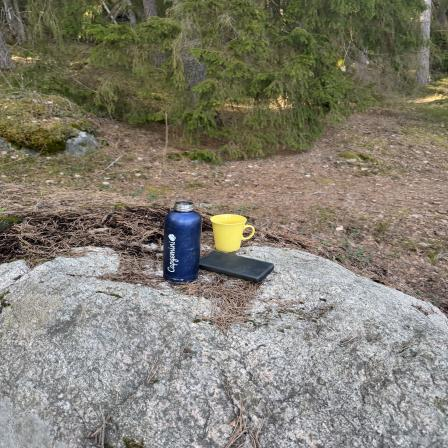blue_bottle: (166, 198, 202, 284)
phone: (200, 249, 279, 285)
yellow_cup: (209, 213, 263, 253)
